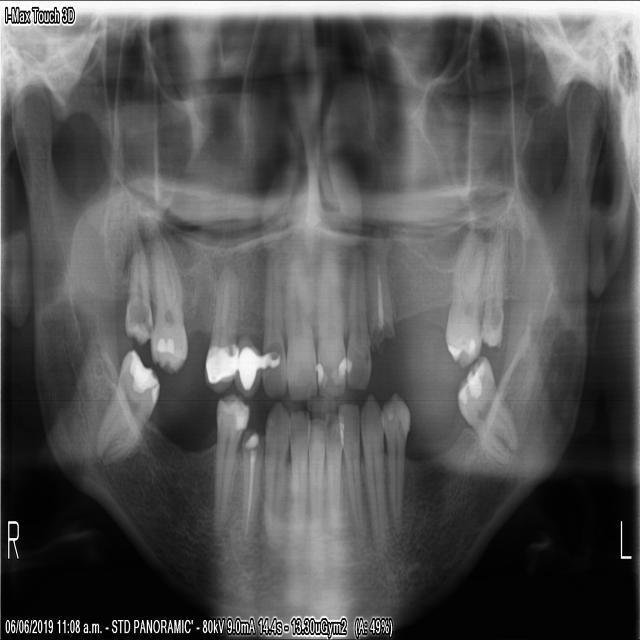LCD: (356, 387, 391, 557)
LID: (334, 393, 368, 552), (321, 404, 345, 543)
LIU: (312, 243, 346, 402), (343, 231, 373, 394)
LMD: (449, 345, 520, 470)
LMU: (436, 217, 491, 372), (476, 222, 507, 357)
LPMD: (378, 380, 411, 538)
RCD: (260, 389, 292, 554)
RCU: (233, 227, 264, 401)
RID: (284, 408, 310, 539), (305, 410, 328, 542)
RIU: (281, 241, 318, 403), (257, 235, 287, 400)
RMD: (89, 339, 161, 476)
RMU: (142, 211, 191, 381), (117, 215, 154, 349)
RPMD: (208, 383, 252, 539), (236, 419, 265, 555)
RPMU: (200, 241, 238, 395)
